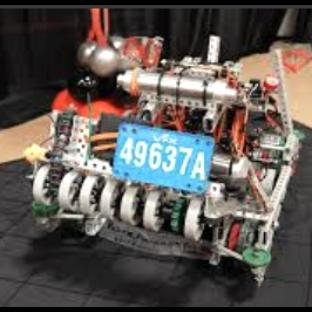Robot: (26, 40, 300, 284)
